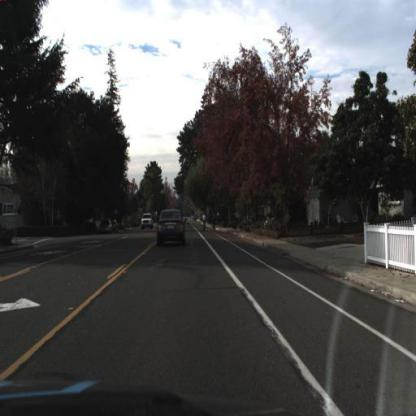biker: (200, 212, 209, 235), (213, 214, 217, 234)
car: (157, 208, 188, 246), (97, 216, 115, 238), (140, 210, 156, 232)
